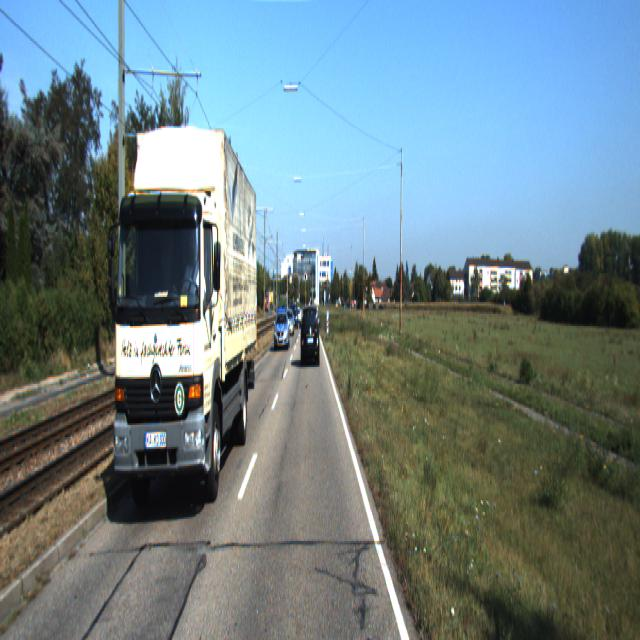Car: (113, 55, 261, 513), (301, 304, 320, 367), (274, 304, 290, 350), (170, 313, 189, 349)
